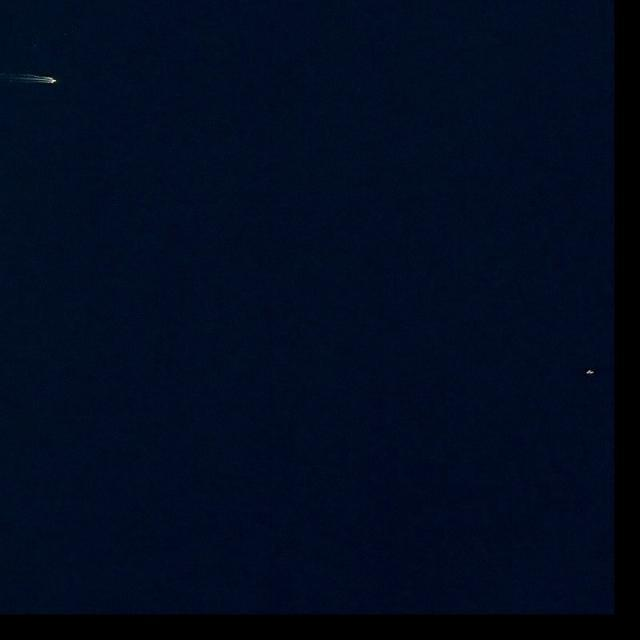ship: (51, 79, 58, 82), (587, 370, 592, 374), (590, 372, 594, 374)
